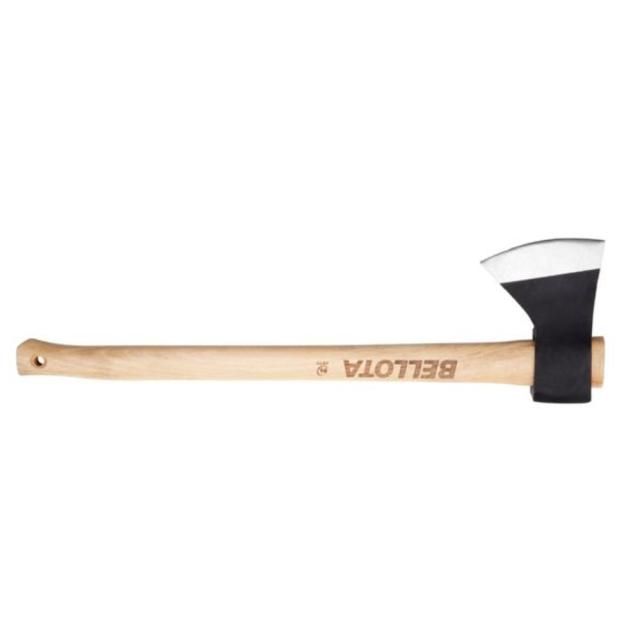Kapak: (36, 213, 616, 440)
